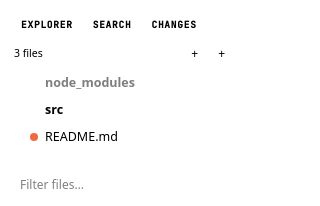
Scenario: D299 Phase 4 the Explorer header switches EXPLORER · SEARCH › shows the switch in the theme’s pill, Explorer first; Search swaps the tree for the search
Expected: the element named "Files of Shop" is shown, [30,74,135,144]
Click the tab "SEARCH": (112, 25) [84,14,140,36]
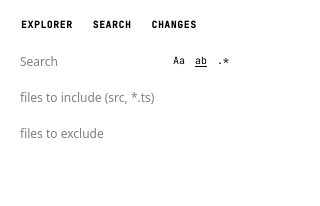
Expected: the field labelled "Search" is shown, [10,46,238,76]
Expected: the text with test id "explorer-count" is gone
Click the tab "EXPLORER": (47, 25) [12,14,82,36]
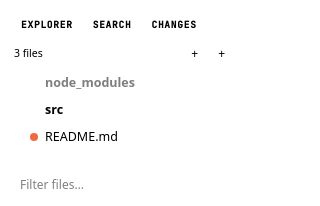
Expected: the element named "Files of Shop" is shown, [30,74,135,144]
